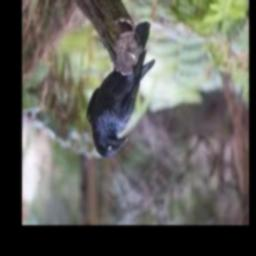Crow: (86, 50, 155, 158)
